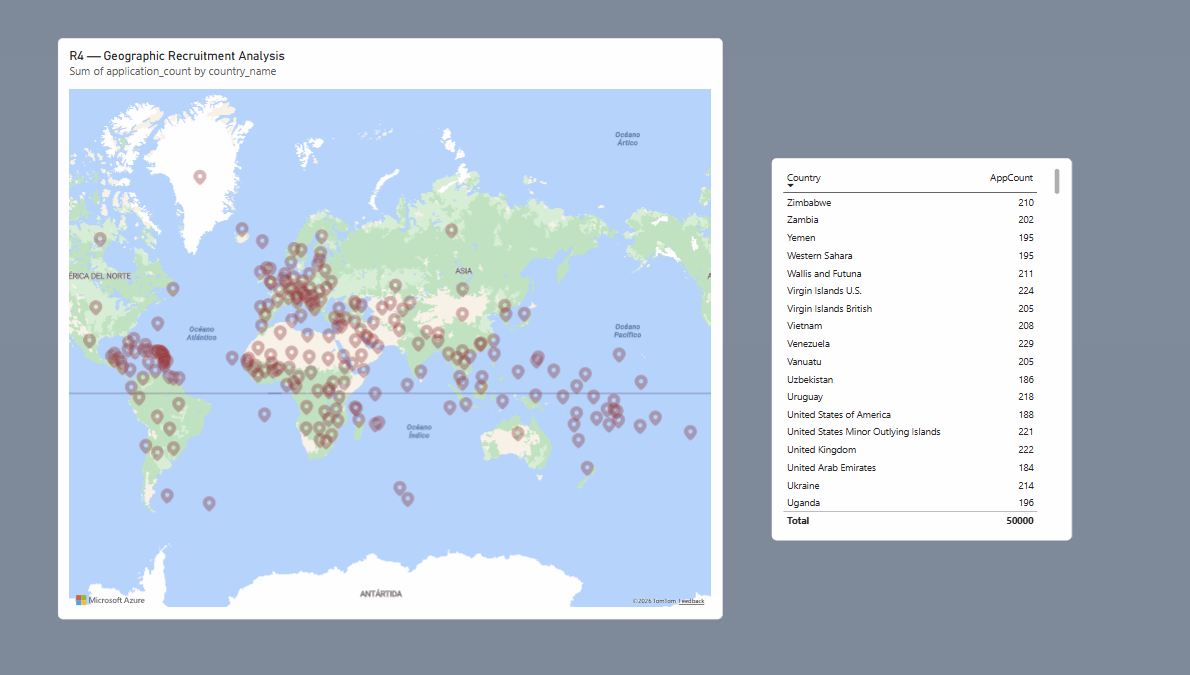

The page's visual inventory and layout, read from the dashboard file:
{"tool":"powerbi","page":{"name":"Geographic Recruitment Analysis","canvas":[1920,1080],"ordinal":2},"visuals":[{"type":"azureMap","title":"R4 — Geographic Recruitment Analysis","fields":{"Category":["dim_country.country_name"]},"box":[174.8,81,979.1,855.8],"z":0},{"type":"tableEx","fields":{"Values":["dim_country.country_name","Sum(fact_application.application_count)"]},"box":[1226.4,258,442.2,563],"z":1000}]}

Visuals, with their boxes in screenshot pixels (x1, y1, x2, y2), scaled from the page's 1920x1080 canvas onto the 1190x675 screenshot:
"R4 — Geographic Recruitment Analysis" azureMap: l=108, t=51, r=715, b=586
tableEx - dim_country.country_name x Sum(fact_application.application_count): l=760, t=161, r=1034, b=513
